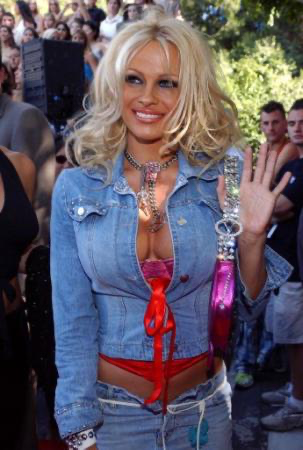Face: (120, 49, 188, 151), (255, 111, 286, 142), (289, 108, 302, 154)
